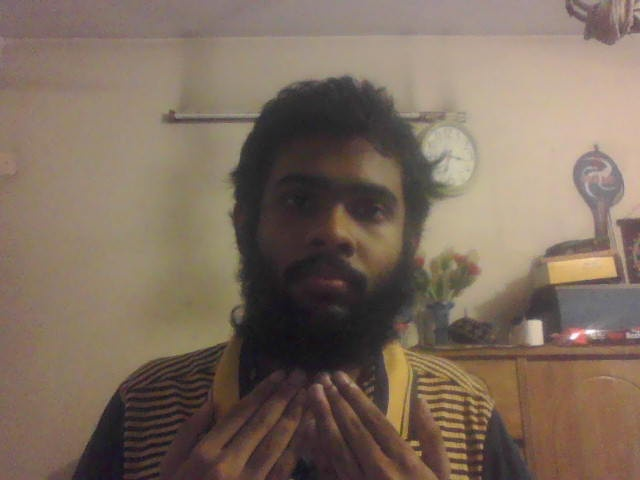Thank You: (165, 368, 451, 480)
